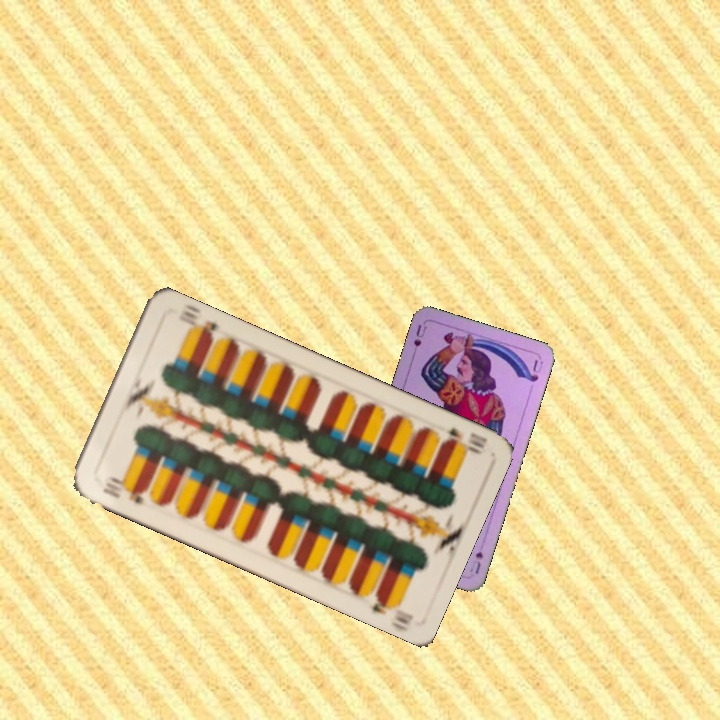E10: (438, 423, 490, 457), (98, 475, 149, 507)
SU: (408, 321, 429, 359), (466, 547, 486, 576)
